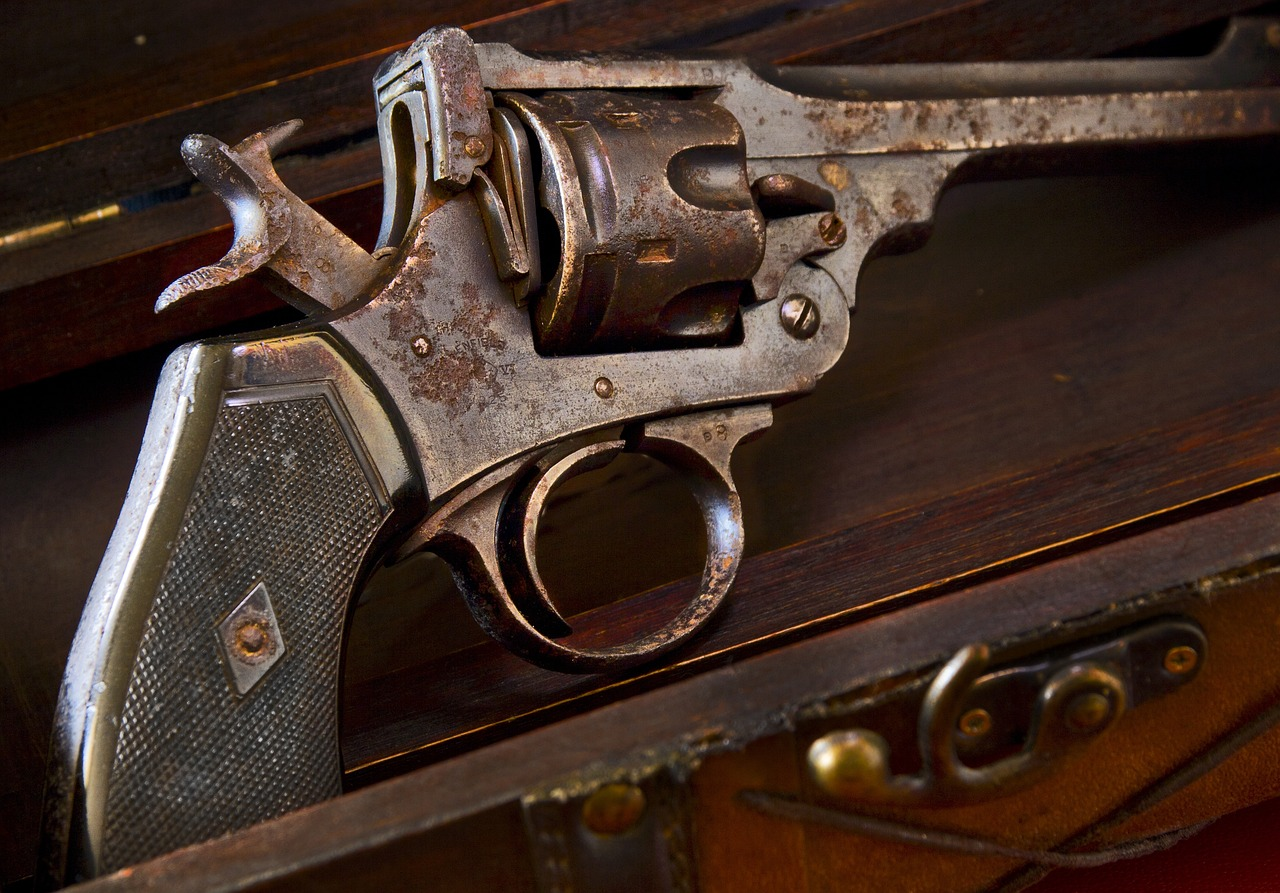gun: (28, 20, 1280, 893)
